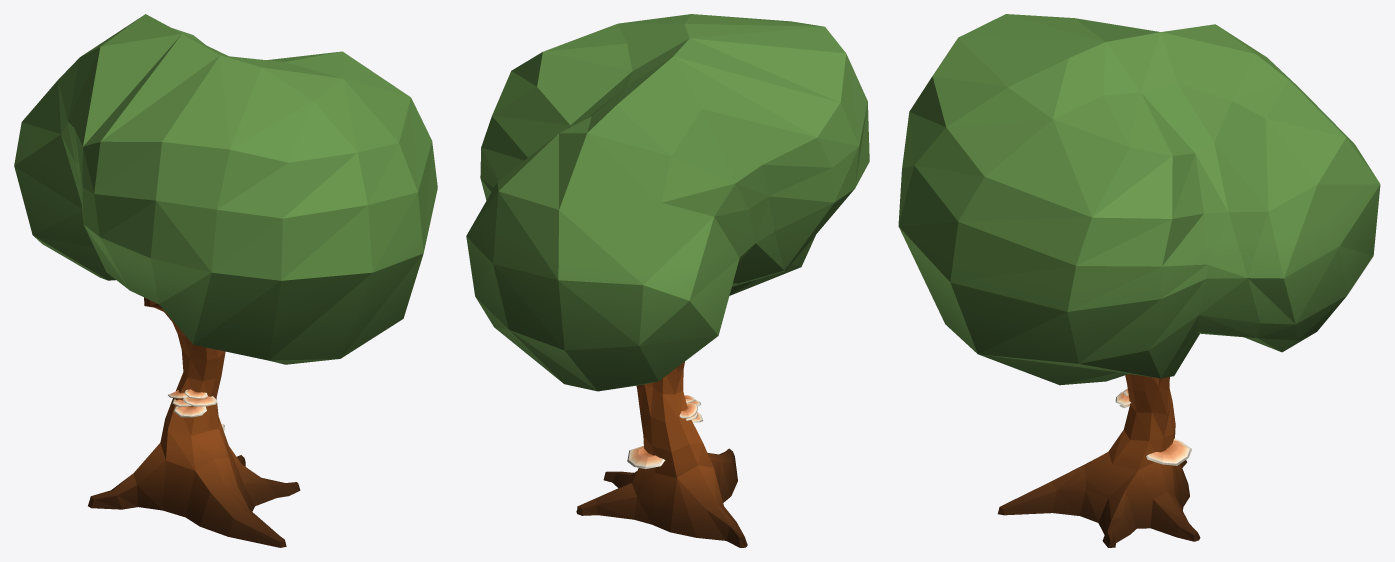
The model's file is Tree-01.FBX.
The picture shows the model from 3 angles, left to right: view 1: azimuth 30°, elevation 25°; view 2: azimuth 150°, elevation 25°; view 3: azimuth 270°, elevation 25°; orthographic projection. The views are drawn at different scales.
Parts seen in each view (by area): view 1: Tree-01; view 2: Tree-01; view 3: Tree-01.
Boxes of the visible parts, bbox=[...] form: Tree-01: bbox=[14, 14, 437, 547]; Tree-01: bbox=[466, 14, 869, 547]; Tree-01: bbox=[898, 14, 1380, 547].
Size of the model in its own units: 635 by 807 by 750.
Materials: 1 (1 with a texture image).
